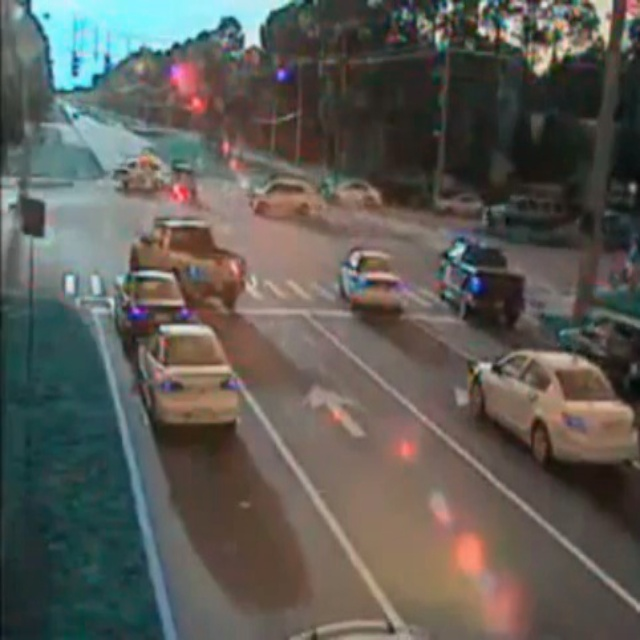acc: (110, 135, 199, 197)
